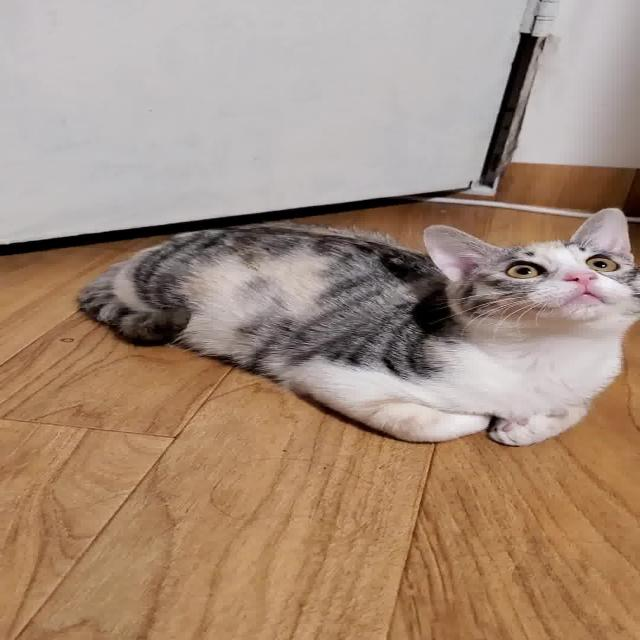cat: (71, 202, 640, 458)
